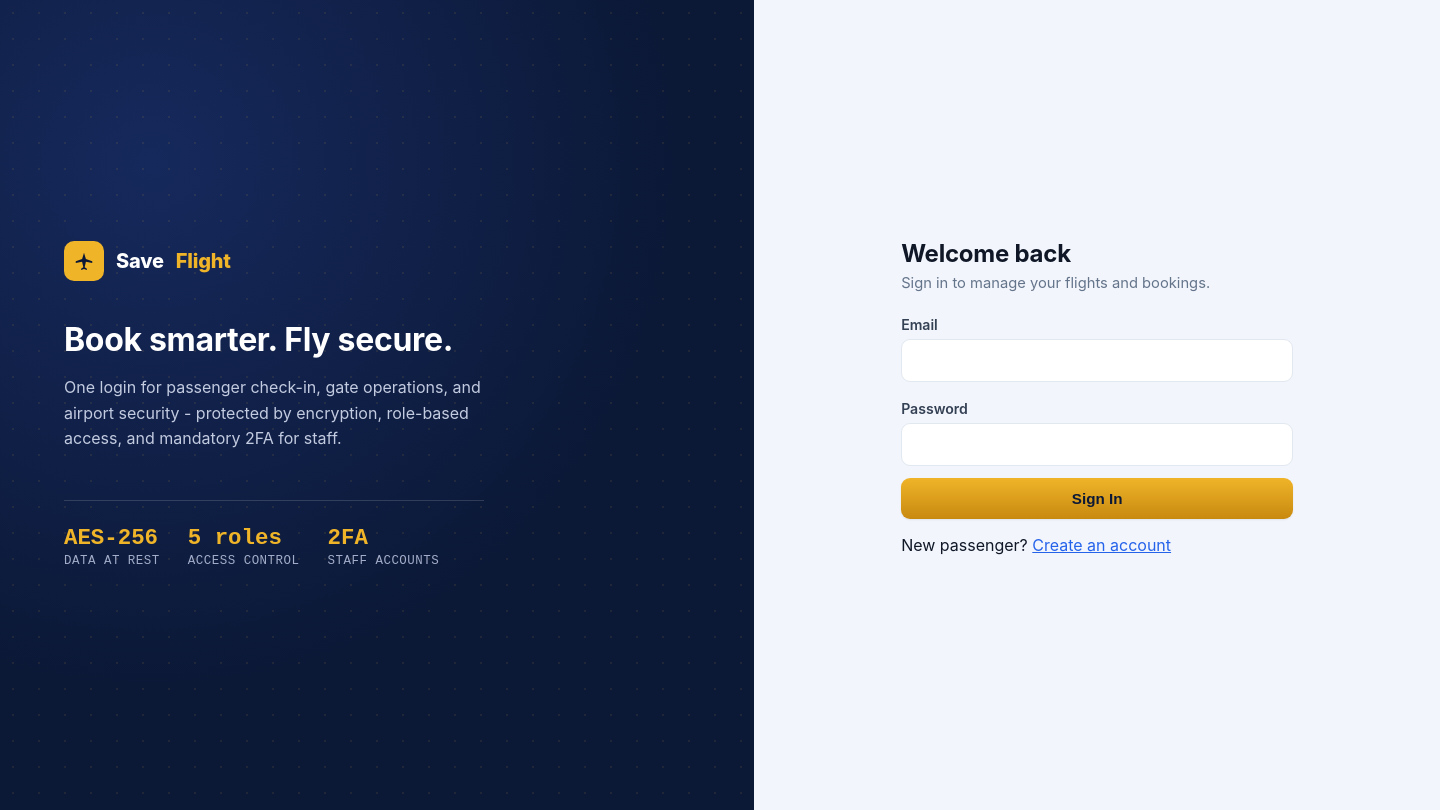
Login Component › shows lockout message on 423 response
The width and height of the screenshot is (1440, 810).
Type "pax@example.com" into the field labelled "Email" at x=1097, y=360, box left=901, top=339, right=1293, bottom=382
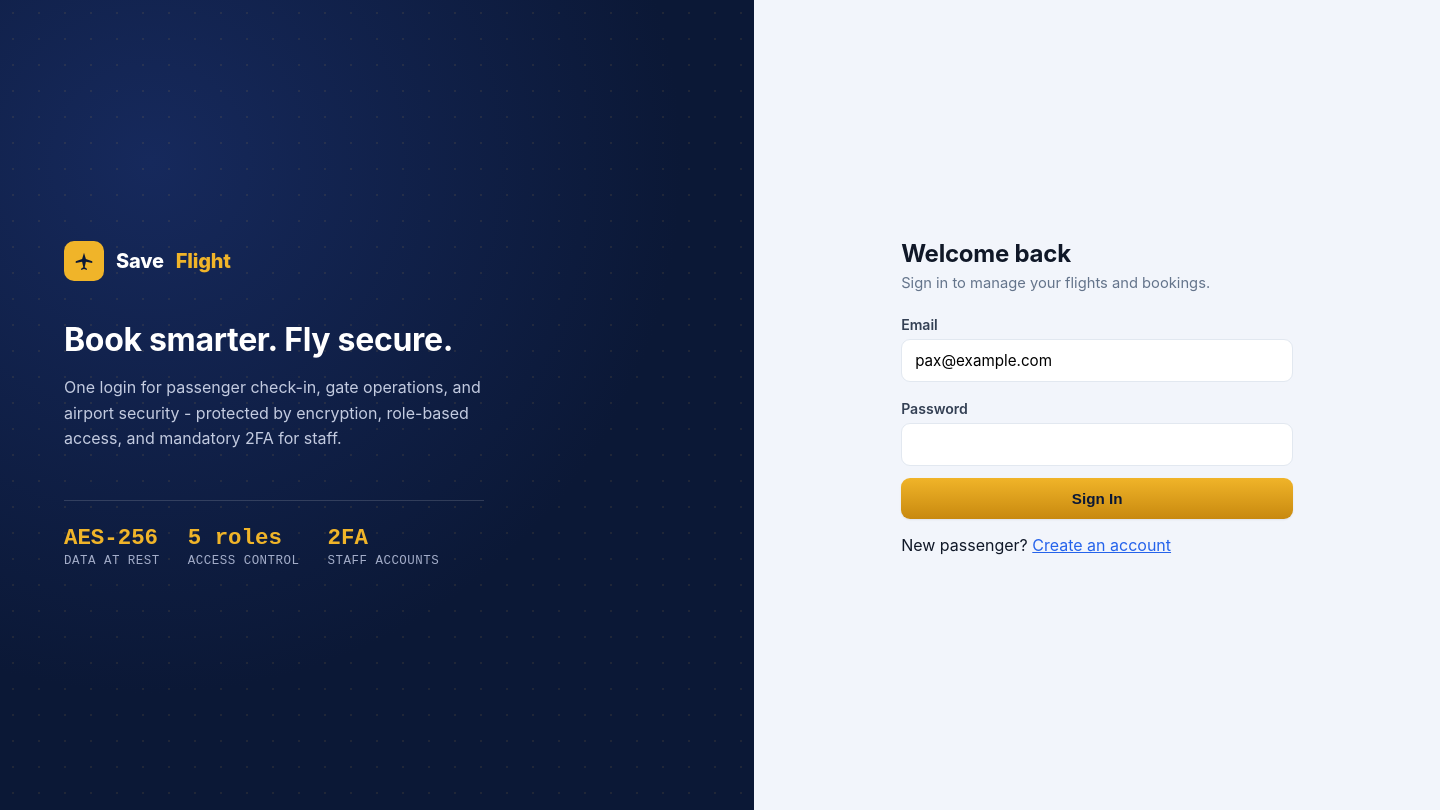
Type "WrongPass1!" into the password field labelled "Password" at x=1097, y=444, box left=901, top=423, right=1293, bottom=466
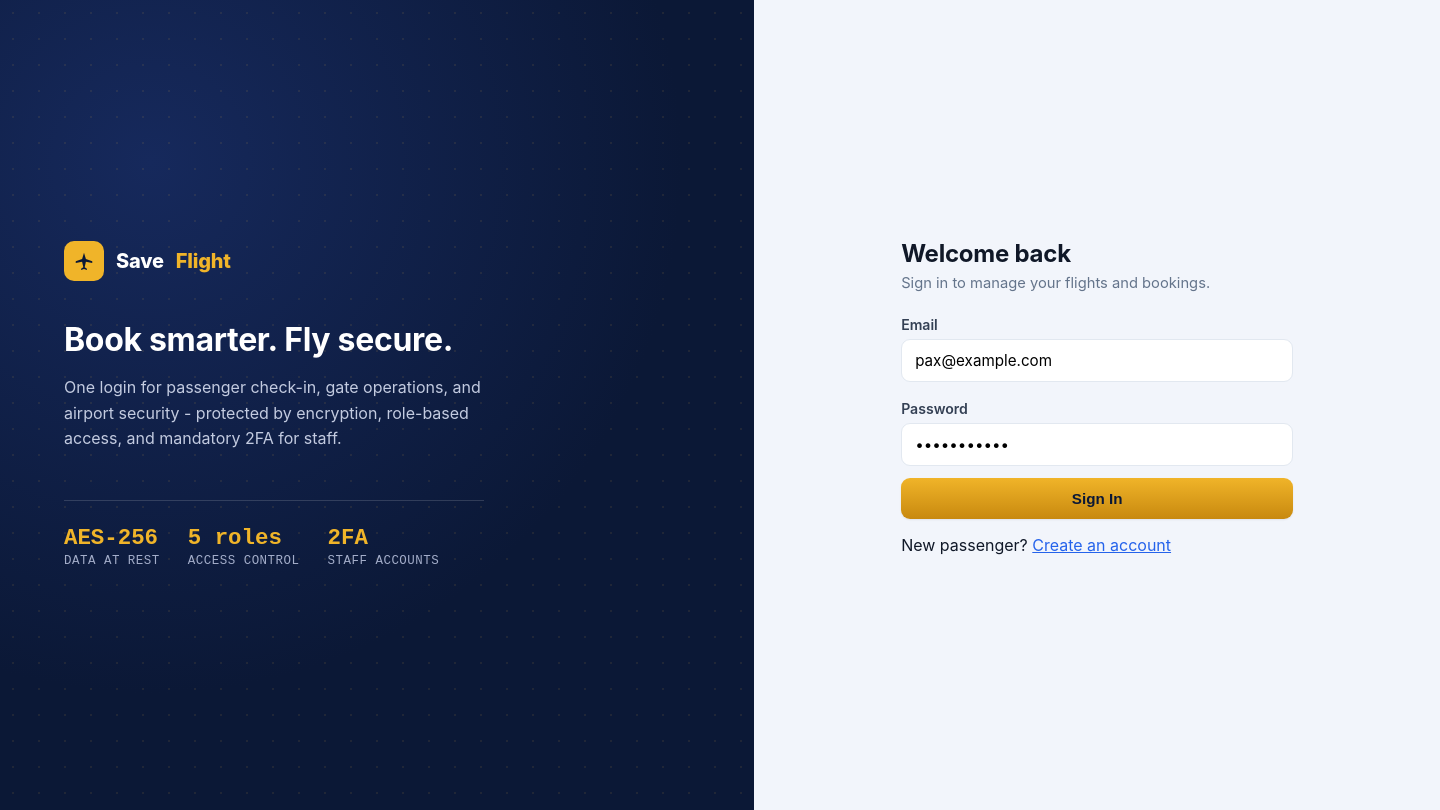
Click the button "Sign In" at x=1097, y=498, box left=901, top=478, right=1293, bottom=519
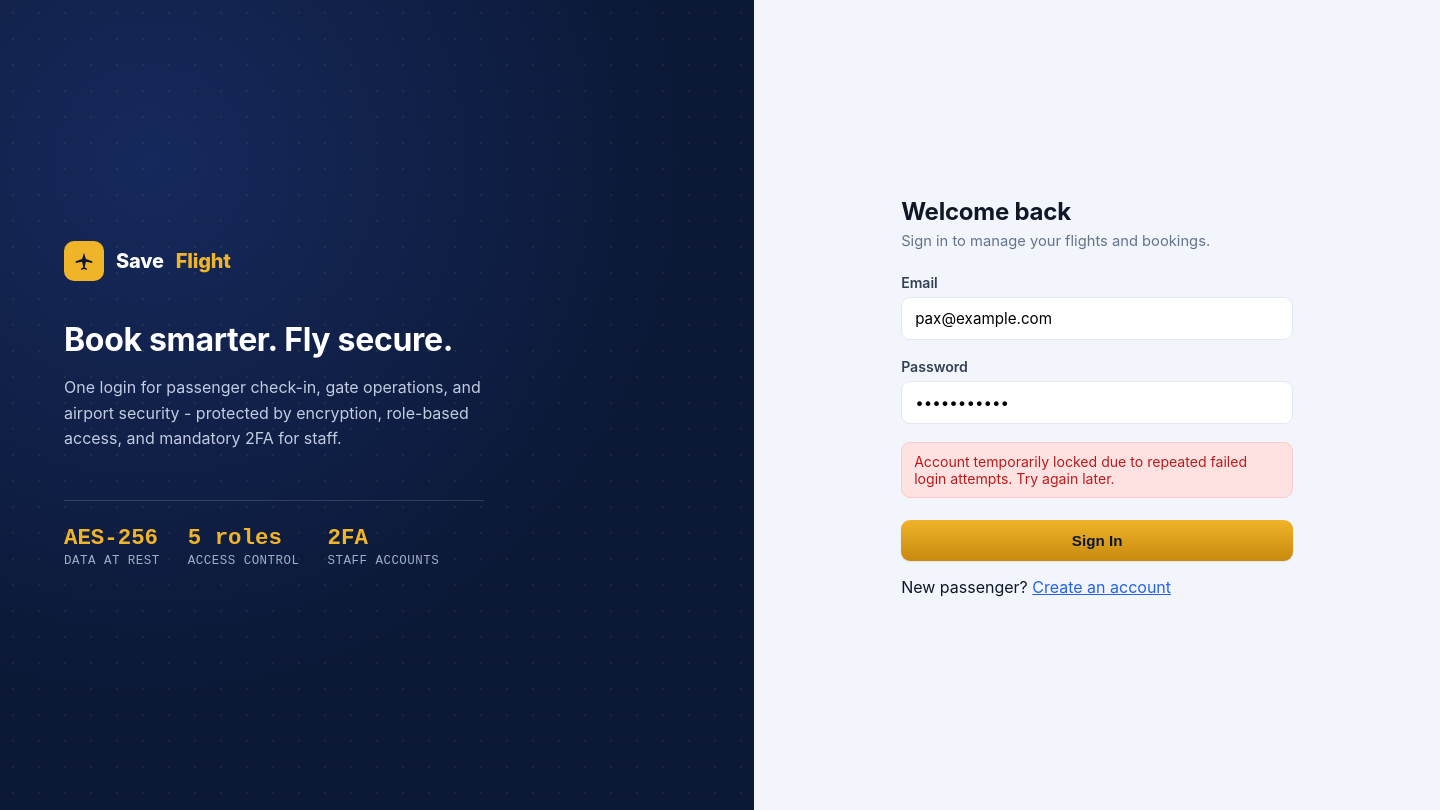
Check: the text "temporarily locked" is shown, box left=914, top=453, right=1247, bottom=487
